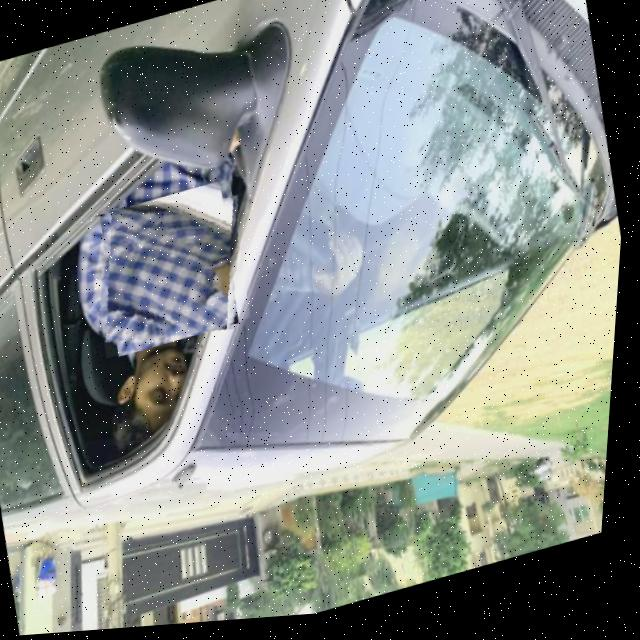no-seatbelt: (80, 180, 261, 361)
